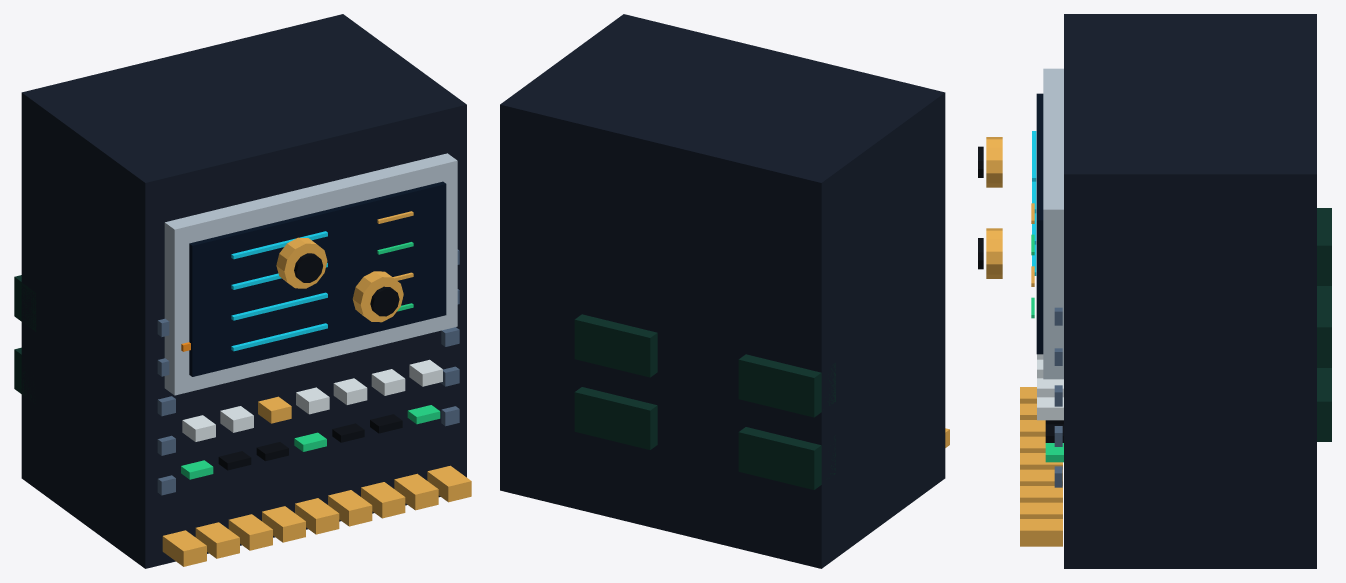
Rendered from 72_L91_TrajectoryCorrectionPlanner.fbx.
The picture shows the model from 3 angles, left to right: view 1: azimuth 30°, elevation 25°; view 2: azimuth 150°, elevation 25°; view 3: azimuth 270°, elevation 25°; orthographic projection. The views are drawn at different scales.
Visible parts, largest first — view 1: L91_TrajectoryCorrectionPlanner, L91_TrajectoryCorrectionPlanner_Part_0012, L91_TrajectoryCorrectionPlanner_Part_0014, L91_TrajectoryCorrectionPlanner_Part_0015, L91_TrajectoryCorrectionPlanner_Part_0013; view 2: L91_TrajectoryCorrectionPlanner; view 3: L91_TrajectoryCorrectionPlanner, L91_TrajectoryCorrectionPlanner_Part_0012, L91_TrajectoryCorrectionPlanner_Part_0014.
Boxes of the visible parts, <box> form: L91_TrajectoryCorrectionPlanner: <box>14,14,471,568</box>; L91_TrajectoryCorrectionPlanner_Part_0012: <box>276,237,327,288</box>; L91_TrajectoryCorrectionPlanner_Part_0014: <box>352,271,403,322</box>; L91_TrajectoryCorrectionPlanner_Part_0015: <box>370,286,399,316</box>; L91_TrajectoryCorrectionPlanner_Part_0013: <box>294,253,322,282</box>; L91_TrajectoryCorrectionPlanner: <box>500,14,949,568</box>; L91_TrajectoryCorrectionPlanner: <box>1020,14,1331,568</box>; L91_TrajectoryCorrectionPlanner_Part_0012: <box>986,137,1002,187</box>; L91_TrajectoryCorrectionPlanner_Part_0014: <box>986,228,1002,278</box>.
Size of the model in its own units: 96.9 by 111 by 90.3.
